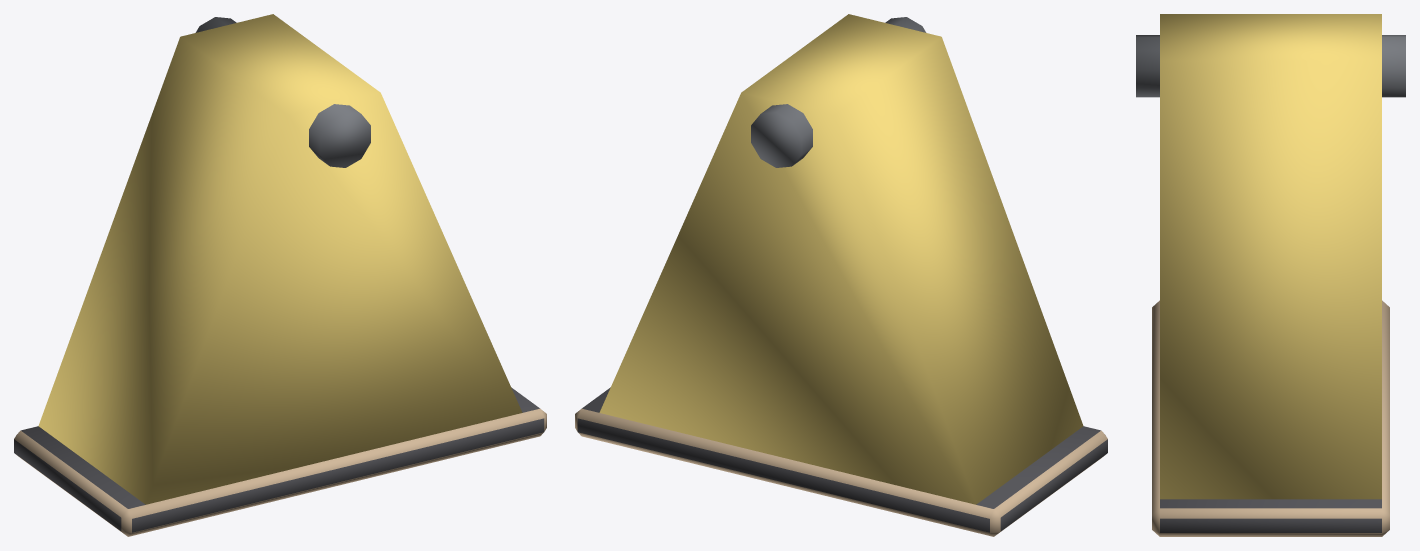
File: seesaw_base.glb
The picture shows the model from 3 angles, left to right: view 1: azimuth 30°, elevation 25°; view 2: azimuth 150°, elevation 25°; view 3: azimuth 270°, elevation 25°; orthographic projection. The views are drawn at different scales.
Parts seen in each view (by area): view 1: seesaw_base; view 2: seesaw_base; view 3: seesaw_base.
Boxes of the visible parts, x1,y1,x2,y2 form: seesaw_base: [14, 14, 546, 536]; seesaw_base: [575, 14, 1107, 536]; seesaw_base: [1136, 14, 1405, 536].
Size of the model in its own units: 0.64 by 0.55 by 0.34.
